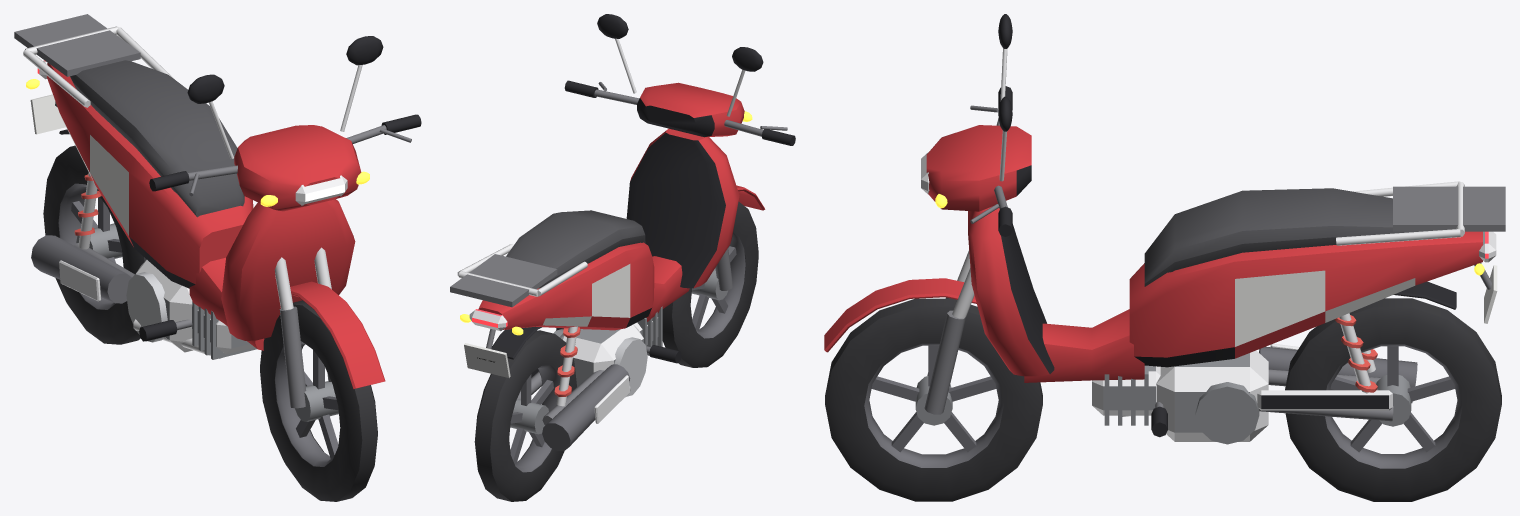
Rendered from SM_Traffic_Scooter.fbx.
3 renders of one model, left to right at view 1: azimuth 30°, elevation 25°; view 2: azimuth 150°, elevation 25°; view 3: azimuth 270°, elevation 25°, orthographic. The views are drawn at different scales.
Parts seen in each view (by area): view 1: Body.003, Wheel_F.003, Wheel_R.001; view 2: Body.003, Wheel_R.001, Wheel_F.003; view 3: Body.003, Wheel_R.001, Wheel_F.003.
Part boxes in pixels (box(x1,y1,x2,y2)): Body.003: box(14, 14, 421, 408); Wheel_F.003: box(260, 300, 377, 501); Wheel_R.001: box(43, 145, 146, 344); Body.003: box(450, 14, 795, 450); Wheel_R.001: box(474, 330, 576, 501); Wheel_F.003: box(662, 201, 758, 367); Body.003: box(824, 14, 1505, 444); Wheel_R.001: box(1285, 298, 1501, 501); Wheel_F.003: box(825, 298, 1042, 501).
Size of what is drawn, in the model's own units: 0.87 by 1.29 by 1.81.
